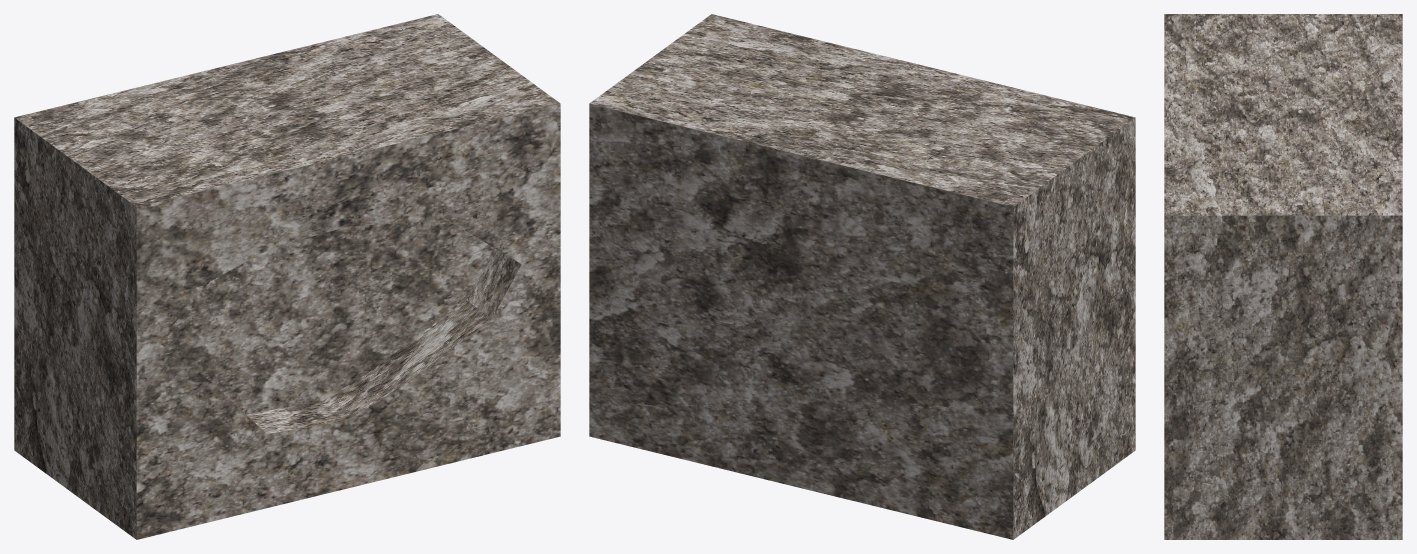
The model's file is EyeSlot1.fbx.
3 views of the same model, side by side, from view 1: azimuth 30°, elevation 25°; view 2: azimuth 150°, elevation 25°; view 3: azimuth 270°, elevation 25° (orthographic). The views are drawn at different scales.
Visible parts, largest first — view 1: Box; view 2: Box; view 3: Box.
Boxes of the visible parts, box(x1,y1,x2,y2) form: Box: box(14, 14, 560, 539); Box: box(589, 14, 1135, 539); Box: box(1164, 14, 1402, 539).
Bounding box in the file's own units: 200 × 150 × 100.
